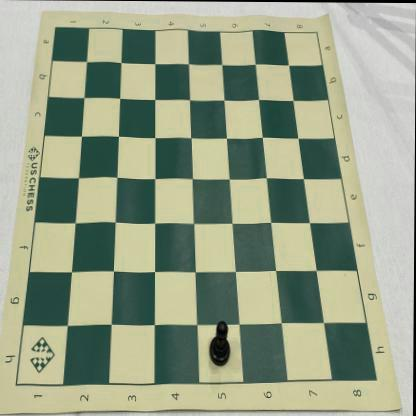black-pawn: (209, 320, 232, 367)
